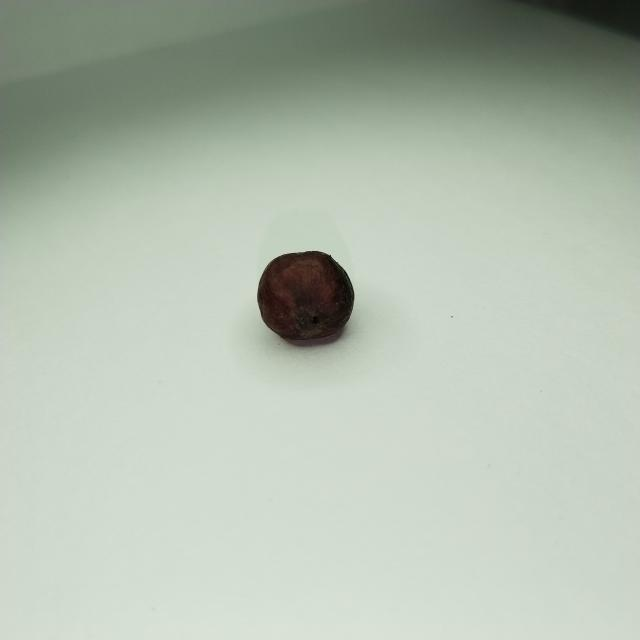Infectado: (257, 252, 356, 349)
